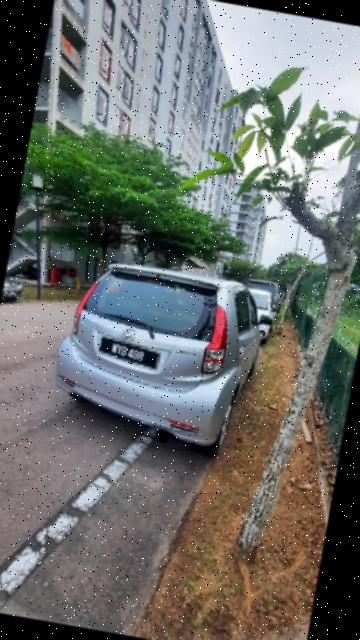License_Plate: (88, 330, 167, 374)
car: (51, 255, 273, 461)
